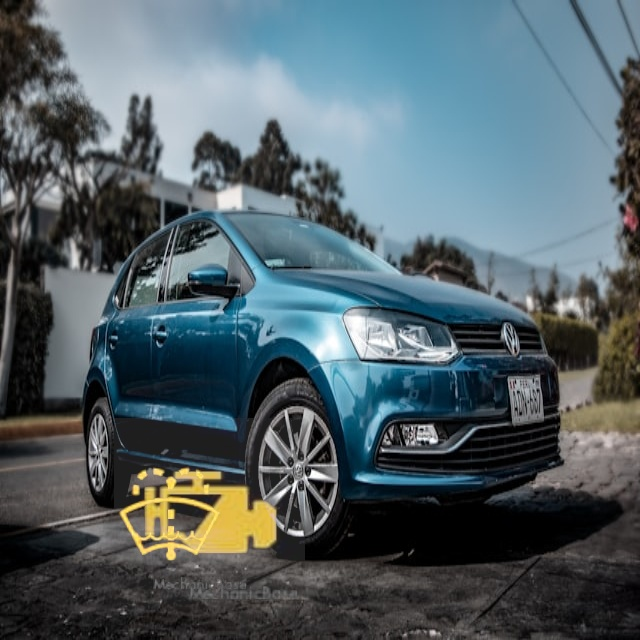symbol: (114, 418, 305, 609), (89, 434, 253, 598)
